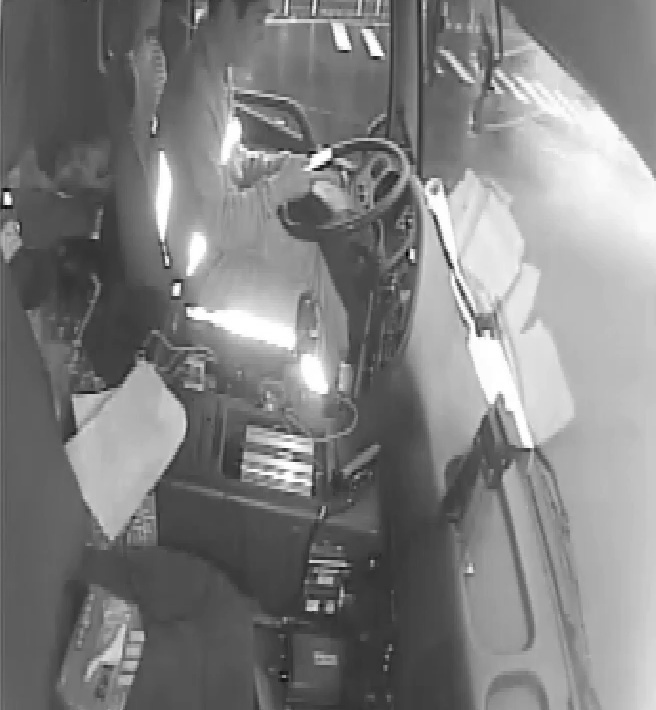cellphone: (288, 143, 334, 177)
